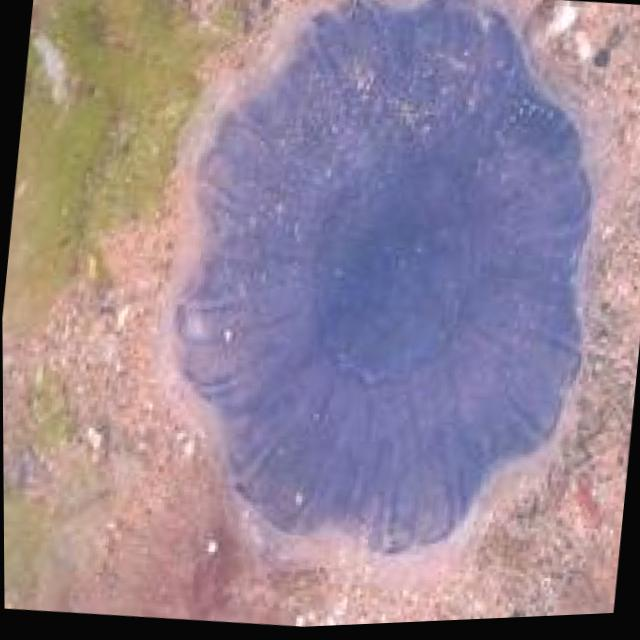Jellyfish: (134, 0, 620, 591)
